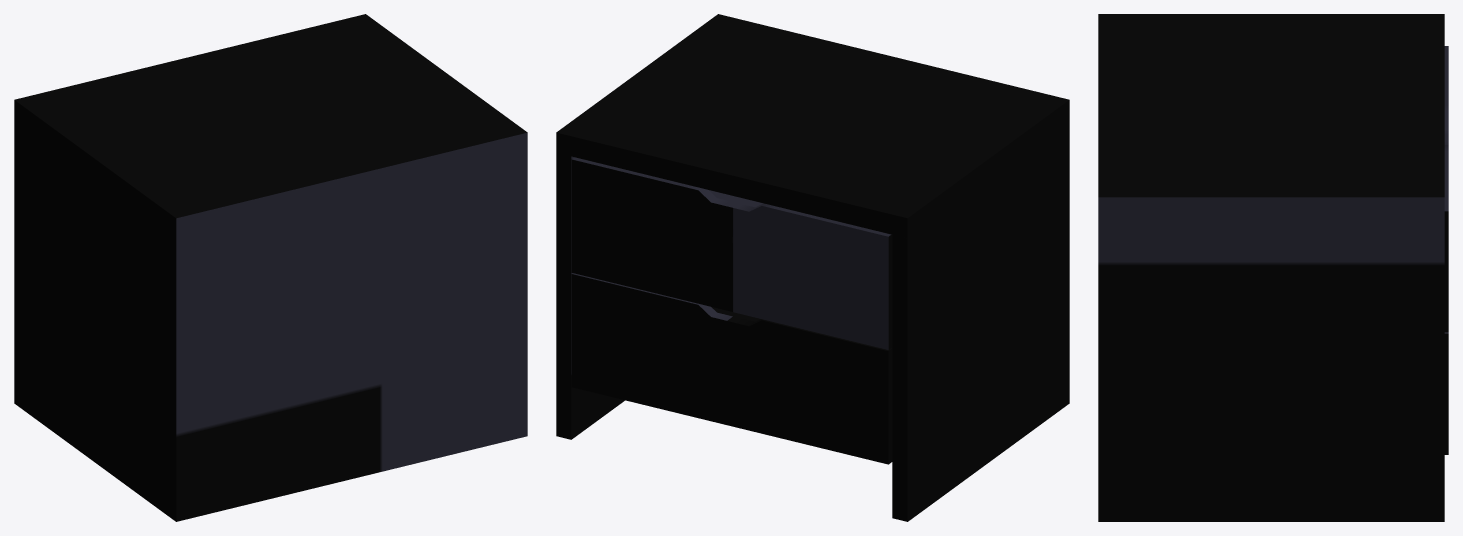
Rendered from shelf2.fbx.
3 renders of one model, left to right at view 1: azimuth 30°, elevation 25°; view 2: azimuth 150°, elevation 25°; view 3: azimuth 270°, elevation 25°, orthographic. The views are drawn at different scales.
Visible parts, largest first — view 1: shelf:pCube1; view 2: shelf:pCube1, shelf:pCube2, shelf:pCube3; view 3: shelf:pCube1, shelf:pCube2, shelf:pCube3.
Boxes of the visible parts, x1,y1,x2,y2 form: shelf:pCube1: (14, 14, 527, 521); shelf:pCube1: (556, 14, 1069, 521); shelf:pCube2: (571, 157, 892, 349); shelf:pCube3: (571, 273, 892, 464); shelf:pCube1: (1098, 14, 1444, 521); shelf:pCube2: (1444, 46, 1448, 332); shelf:pCube3: (1444, 332, 1448, 454).
Bounding box in the file's own units: 1.52 × 1.25 × 1.22.
1 material, 1 textured.
